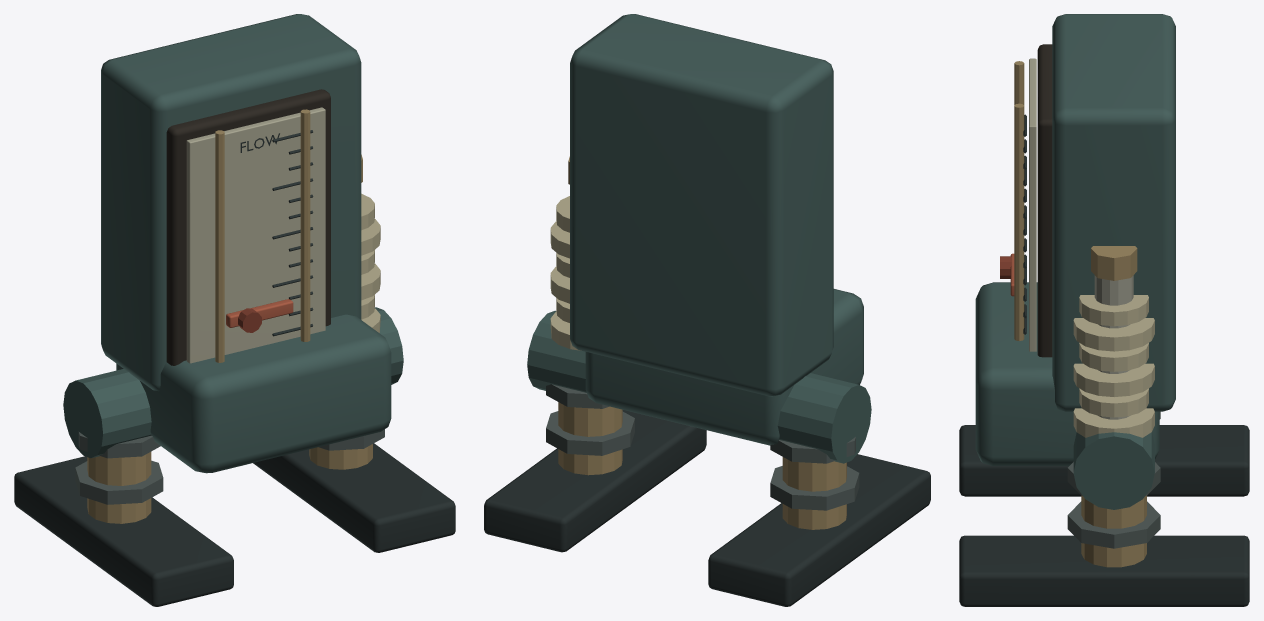
The model's file is station-flow.glb.
3 views of the same model, side by side, from view 1: azimuth 30°, elevation 25°; view 2: azimuth 150°, elevation 25°; view 3: azimuth 270°, elevation 25° (orthographic). The views are drawn at different scales.
Parts seen in each view (by area): view 1: Housing, Mechanism; view 2: Housing; view 3: Housing, Mechanism.
Boxes of the visible parts, box(x1,y1,x2,y2) form: Housing: box(14, 14, 455, 606); Mechanism: box(226, 299, 293, 332); Housing: box(484, 14, 930, 606); Housing: box(959, 14, 1249, 606); Mechanism: box(1000, 253, 1014, 296).
Bounding box in the file's own units: 0.186 × 0.2695 × 0.15.
